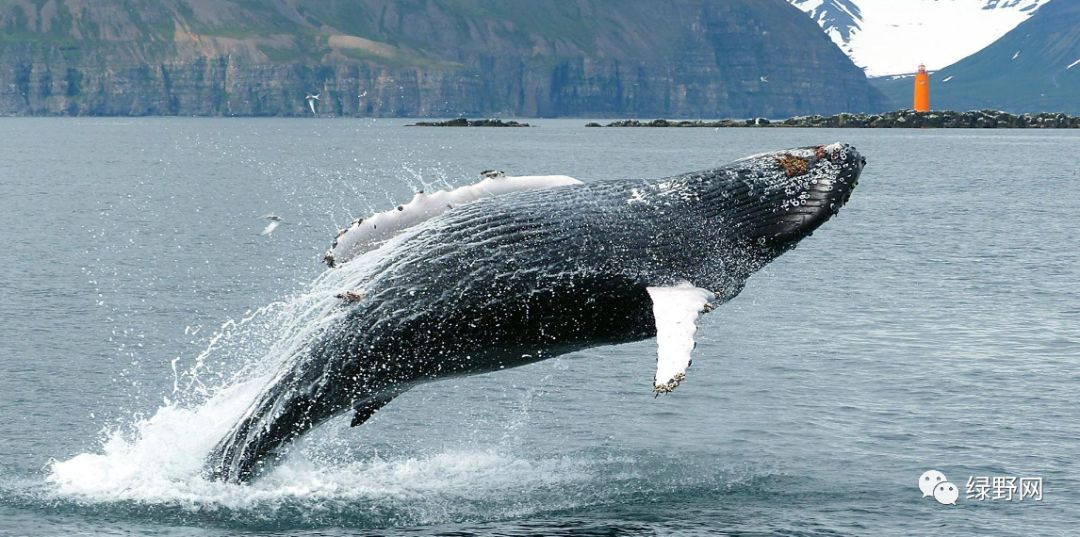fish: (197, 128, 867, 494)
